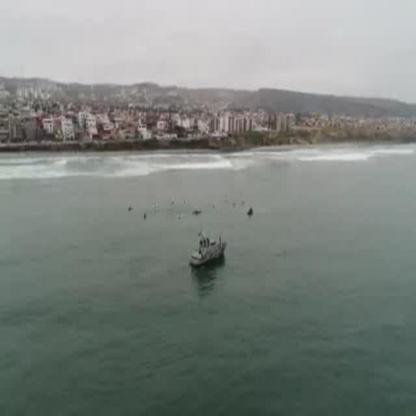Boat: (187, 230, 225, 268)
